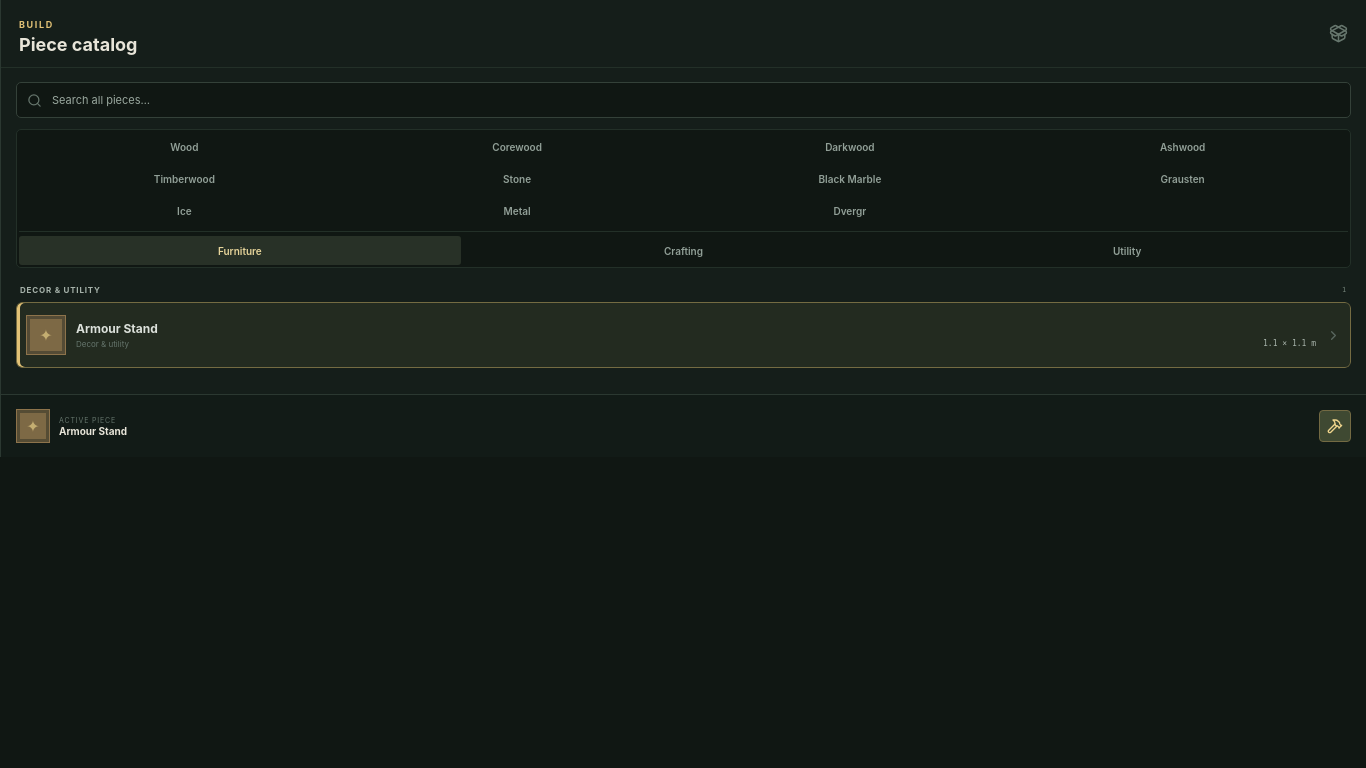
piece catalog requirements › reveals a piece station and materials only while its card is expanded
Expected: the text "Required station" is not shown
Click the button "Armour Stand Decor & utility 1.1 × 1.1 m".
click(46, 335)  # box x1=16 y1=302 x2=1351 y2=368
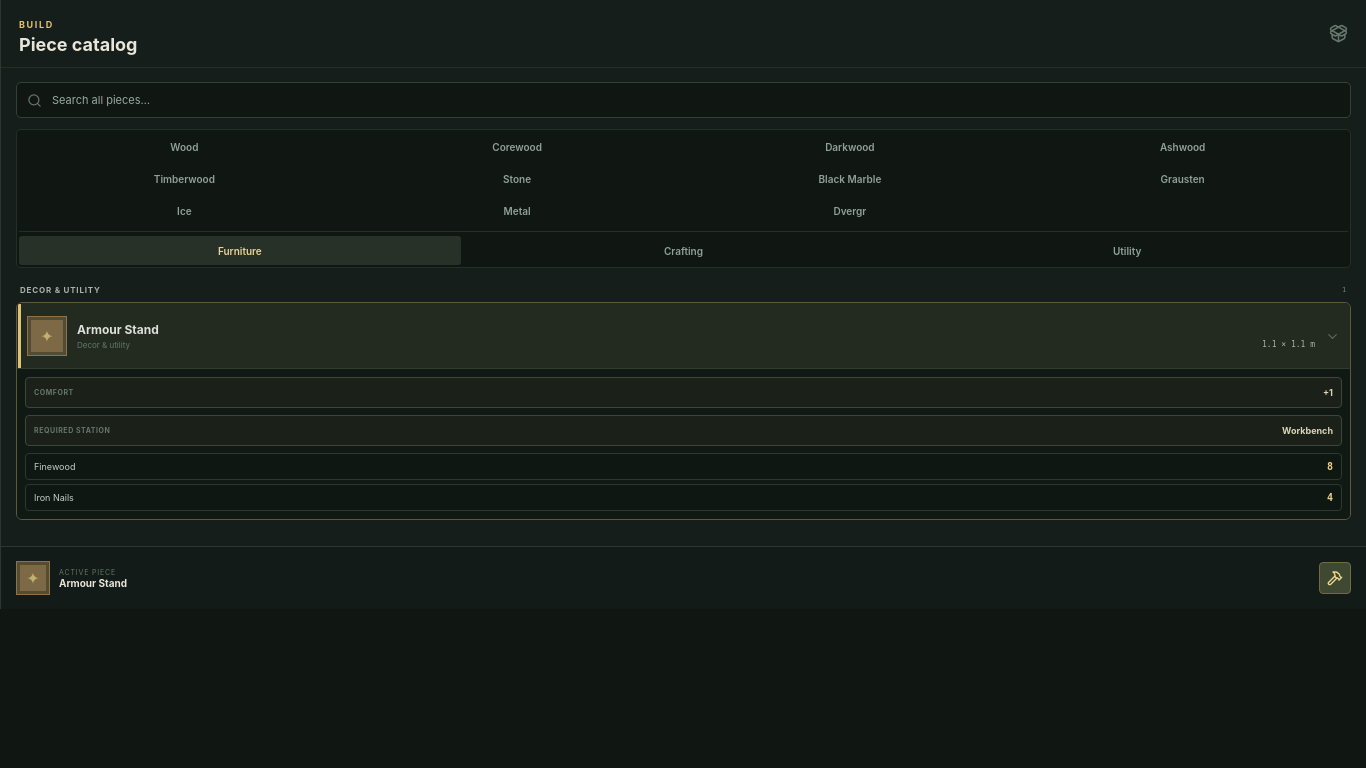
Now the text "Required station" is shown, box x1=34 y1=426 x2=110 y2=435
Now the text "Comfort" is shown, box x1=34 y1=388 x2=74 y2=397
Now the text "+1" is shown, box x1=1323 y1=387 x2=1333 y2=398
Click the button "Armour Stand Decor & utility 1.1 × 1.1 m".
click(47, 336)  # box x1=17 y1=303 x2=1350 y2=369
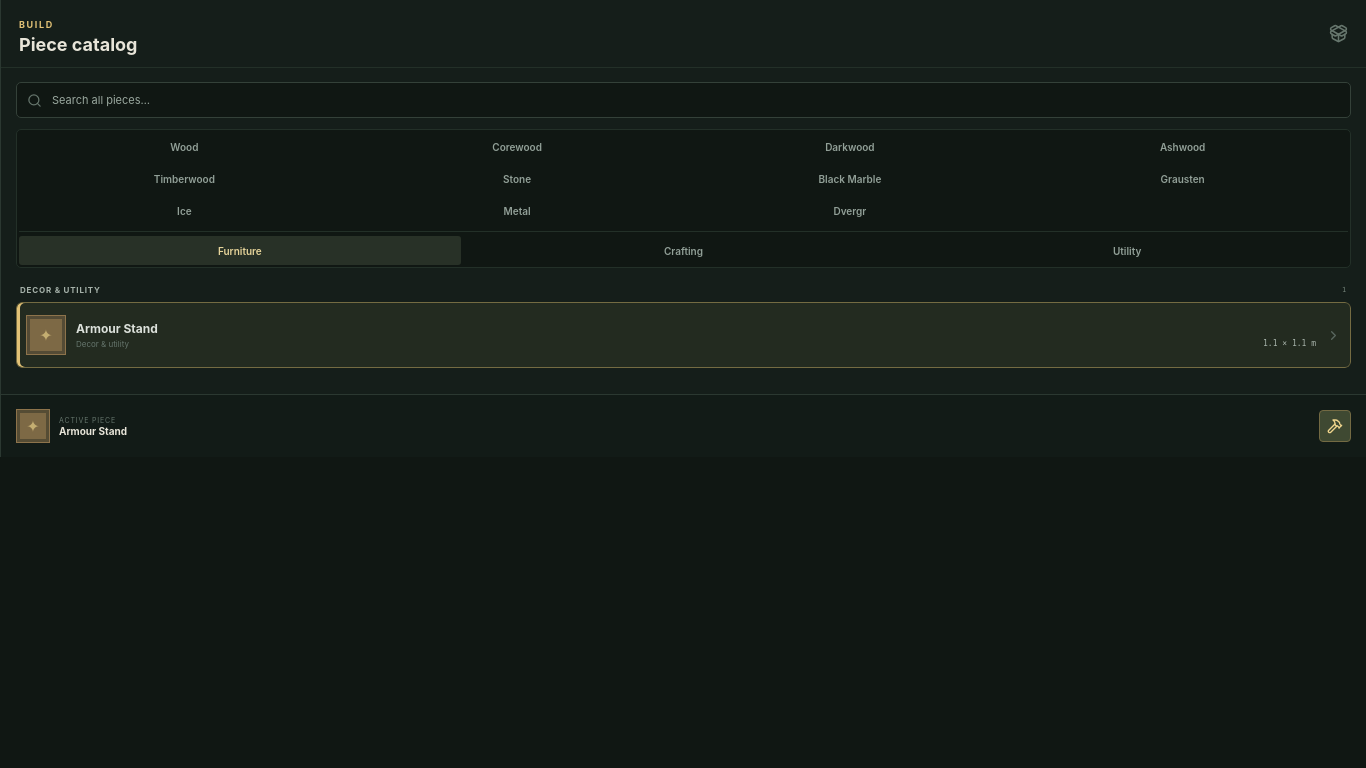
Now the text "Required station" is gone
